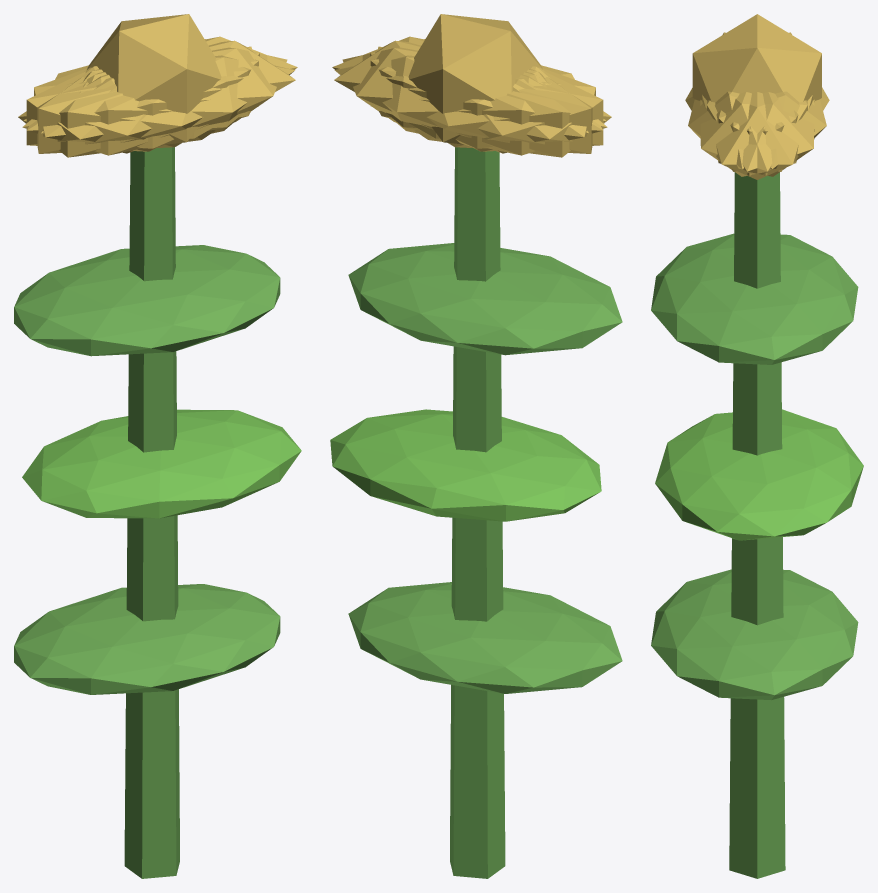
File: annona-purpurea.glb
The picture shows the model from 3 angles, left to right: view 1: azimuth 30°, elevation 25°; view 2: azimuth 150°, elevation 25°; view 3: azimuth 270°, elevation 25°; orthographic projection.
Visible parts, largest first — view 1: stem, leaf2, leaf1, leaf0, center, petal1, petal6, petal2, petal5, petal7, petal0, petal4 (+2 smaller); view 2: stem, leaf1, leaf2, leaf0, center, petal8, petal3, petal7, petal4, petal2, petal0, petal5 (+2 smaller); view 3: stem, leaf1, leaf2, leaf0, center, petal0, petal5, petal4, petal1, petal8.
Boxes of the visible parts, left/top/right/bottom form: stem: left=124, top=147, right=179, bottom=878; leaf2: left=14, top=245, right=280, bottom=356; leaf1: left=22, top=409, right=301, bottom=518; leaf0: left=14, top=584, right=280, bottom=694; center: left=87, top=14, right=221, bottom=144; petal1: left=22, top=55, right=294, bottom=155; petal6: left=18, top=67, right=215, bottom=157; petal2: left=37, top=46, right=251, bottom=153; petal5: left=41, top=47, right=287, bottom=148; petal7: left=26, top=52, right=259, bottom=151; petal0: left=86, top=40, right=295, bottom=138; petal4: left=23, top=36, right=297, bottom=130; stem: left=450, top=147, right=505, bottom=878; leaf1: left=330, top=409, right=601, bottom=521; leaf2: left=348, top=243, right=622, bottom=355; leaf0: left=348, top=582, right=622, bottom=693; center: left=408, top=14, right=542, bottom=144; petal8: left=334, top=55, right=607, bottom=155; petal3: left=414, top=67, right=611, bottom=157; petal7: left=378, top=46, right=592, bottom=153; petal4: left=342, top=47, right=588, bottom=148; petal2: left=370, top=52, right=603, bottom=151; petal0: left=334, top=40, right=543, bottom=138; petal5: left=332, top=36, right=606, bottom=130; stem: left=729, top=172, right=785, bottom=878; leaf1: left=655, top=409, right=863, bottom=540; leaf2: left=651, top=233, right=858, bottom=364; leaf0: left=651, top=569, right=858, bottom=700; center: left=692, top=14, right=821, bottom=102; petal0: left=702, top=92, right=812, bottom=179; petal5: left=700, top=92, right=807, bottom=176; petal4: left=707, top=92, right=814, bottom=176; petal1: left=688, top=91, right=798, bottom=169; petal8: left=716, top=91, right=826, bottom=169.
Bounding box in the file's own units: 0.1482 × 0.4367 × 0.1009.
